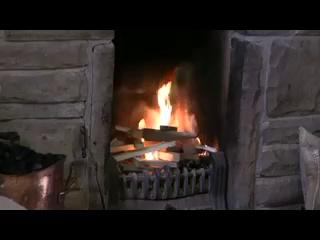Fire: (134, 75, 197, 130)
